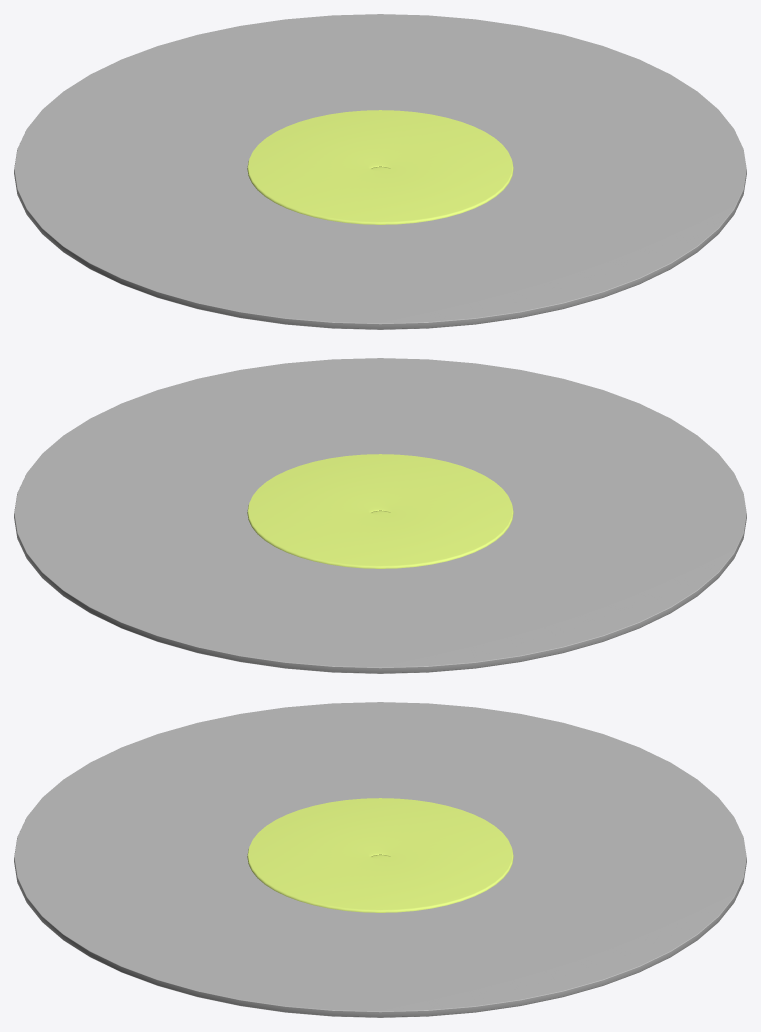
The model's file is Record_1.fbx.
3 renders of one model, top to bottom at view 1: azimuth 30°, elevation 25°; view 2: azimuth 150°, elevation 25°; view 3: azimuth 270°, elevation 25°, orthographic.
Parts seen in each view (by area): view 1: Record_1; view 2: Record_1; view 3: Record_1.
Boxes of the visible parts, x1,y1,x2,y2 form: Record_1: (14,14,746,329); Record_1: (14,358,746,673); Record_1: (14,702,746,1017).
Size of the model in its own units: 0.4303 by 0.00782 by 0.4303.
